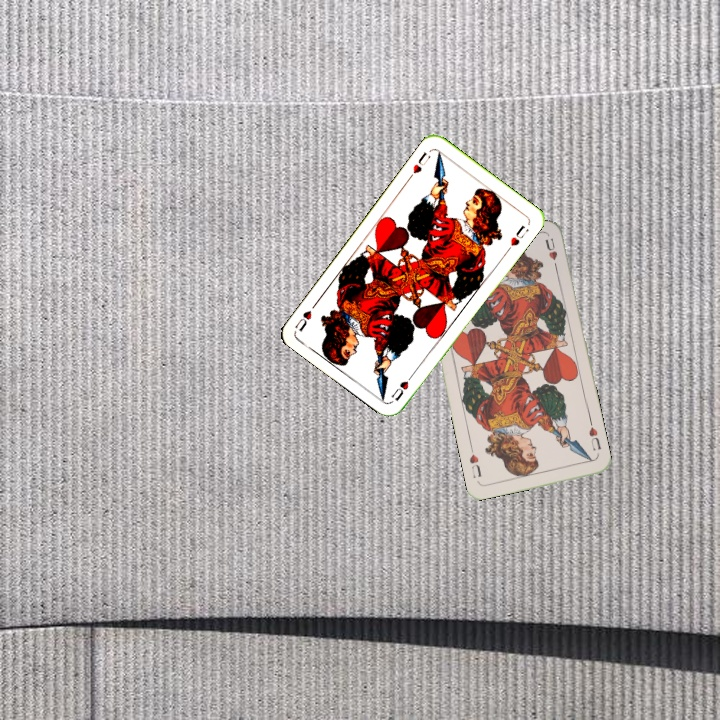HU: (387, 369, 417, 403), (409, 148, 433, 176), (585, 418, 603, 452)
